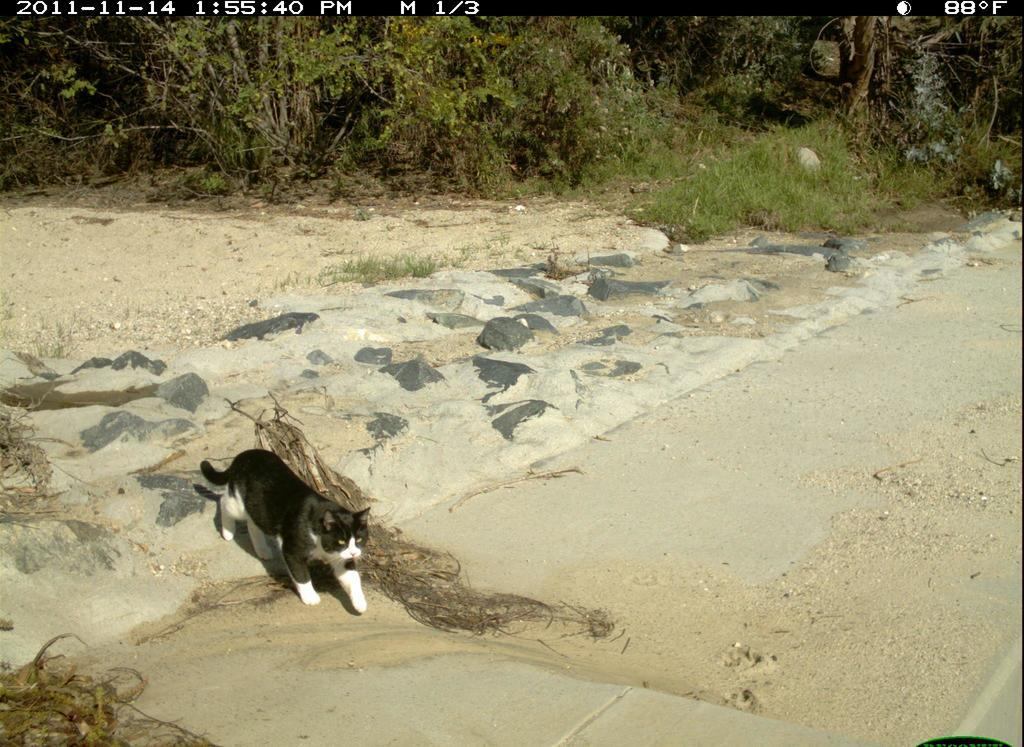cat: (193, 433, 379, 625)
